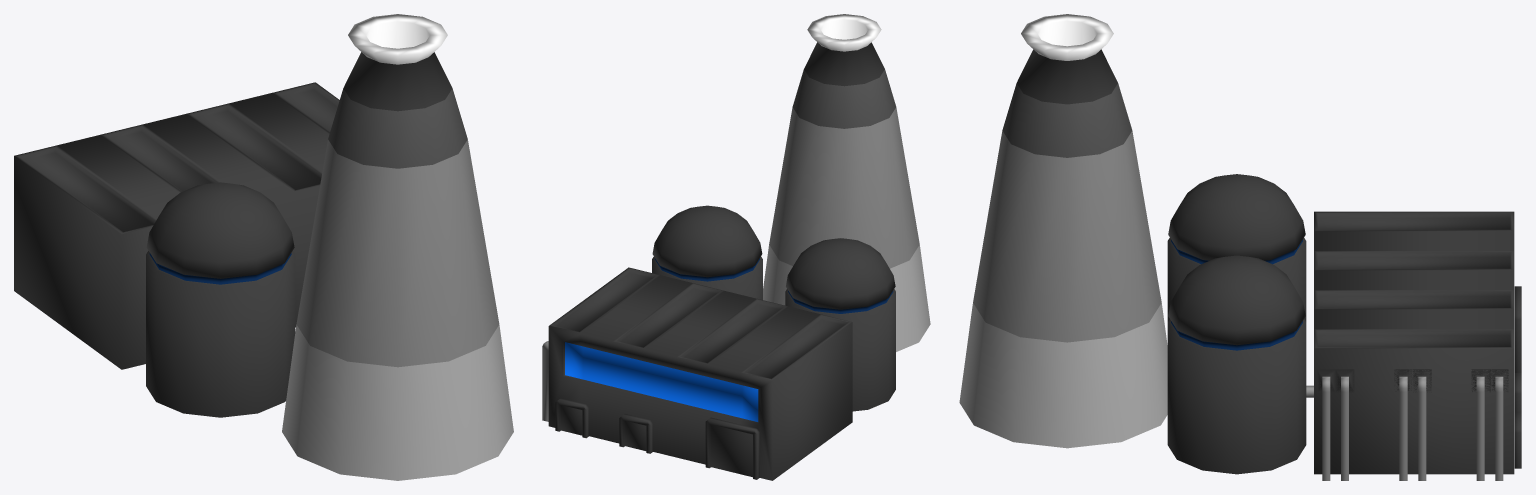
The model's file is NATO Power Plant.obj.
3 renders of one model, left to right at view 1: azimuth 30°, elevation 25°; view 2: azimuth 150°, elevation 25°; view 3: azimuth 270°, elevation 25°, orthographic. The views are drawn at different scales.
Visible parts, largest first — view 1: NATO_Power_Plant_Cube; view 2: NATO_Power_Plant_Cube; view 3: NATO_Power_Plant_Cube.
Boxes of the visible parts, x1=… form: NATO_Power_Plant_Cube: x1=14, y1=14, x2=513, y2=480; NATO_Power_Plant_Cube: x1=542, y1=14, x2=930, y2=480; NATO_Power_Plant_Cube: x1=959, y1=14, x2=1521, y2=480.
Size of the model in its own units: 22.51 by 26.41 by 36.46.
